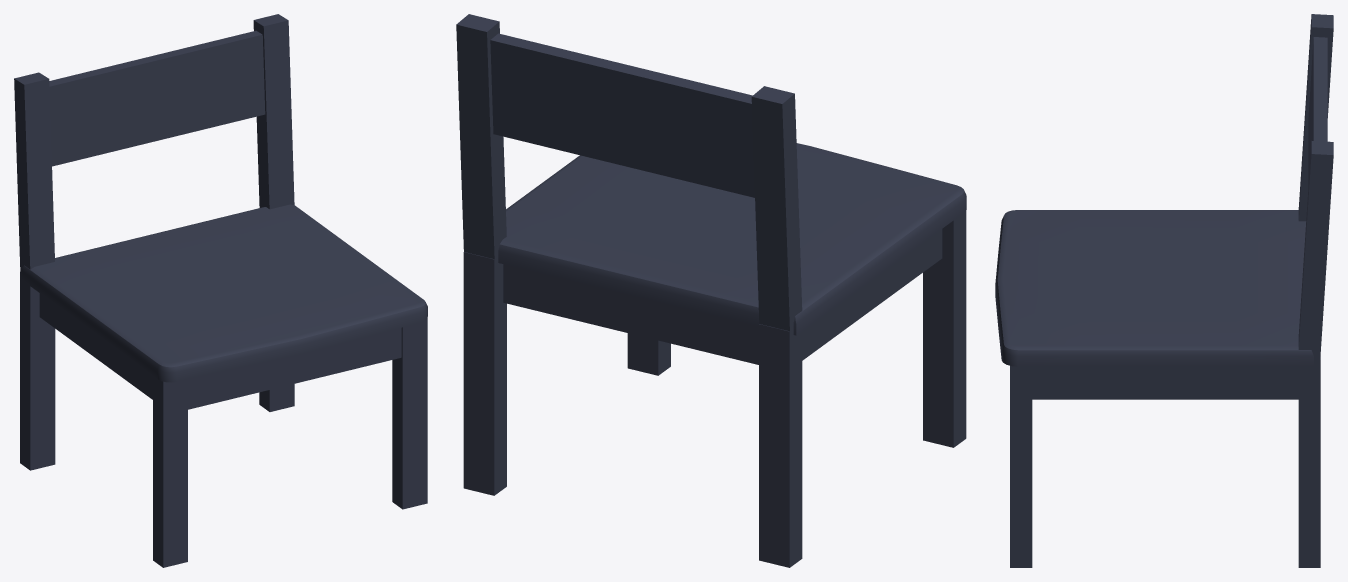
File: sm_StaffChair.fbx
3 renders of one model, left to right at view 1: azimuth 30°, elevation 25°; view 2: azimuth 150°, elevation 25°; view 3: azimuth 270°, elevation 25°, orthographic. The views are drawn at different scales.
Visible parts, largest first — view 1: pCube14; view 2: pCube14; view 3: pCube14.
Boxes of the visible parts, x1,y1,x2,y2 form: pCube14: (14,14,427,567); pCube14: (456,14,966,567); pCube14: (995,14,1333,567).
Bounding box in the file's own units: 318 × 432 × 320.
